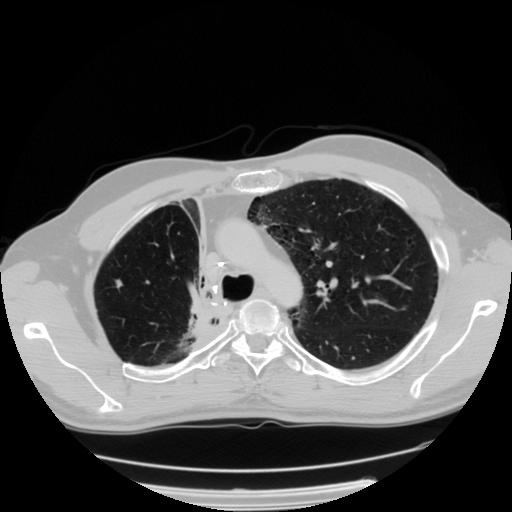nodule: (113, 278, 126, 291)
